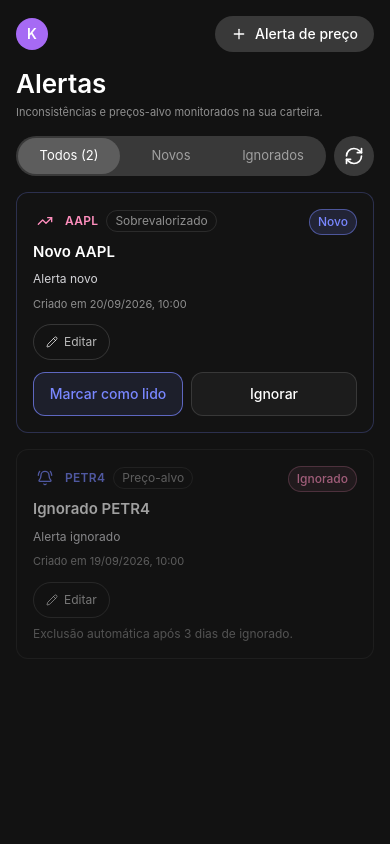
Test case: AlertsPage › filtra alertas novos e ignorados na tela mobile
The width and height of the screenshot is (390, 844).
Step 1. Click the tab "Novos" → [171, 156], box x1=120 y1=138 x2=222 y2=174
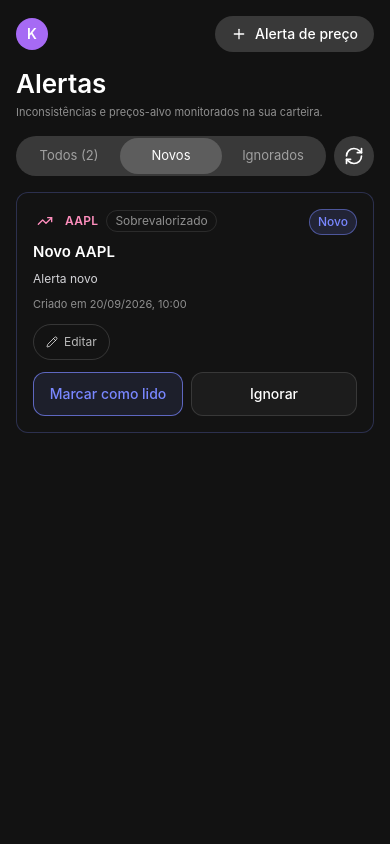
Expected: the element "Novo AAPL" is shown, x1=16 y1=192 x2=374 y2=433
Expected: the heading "Ignorado PETR4" is gone
Step 2. Click the tab "Ignorados" → [273, 156], box x1=222 y1=138 x2=324 y2=174
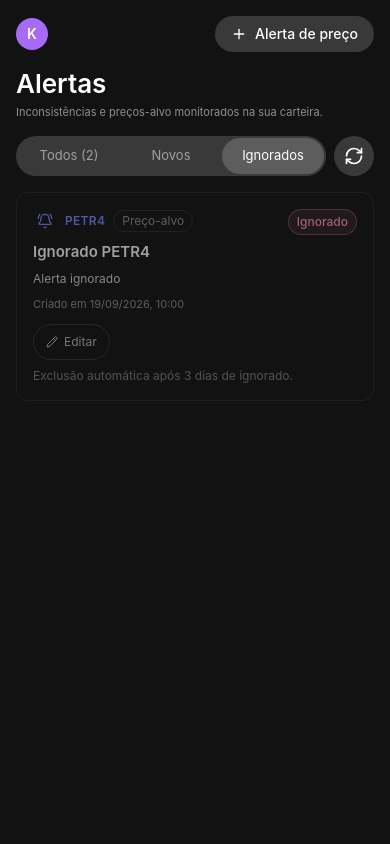
Expected: the heading "Novo AAPL" is gone
Expected: the element "Ignorado PETR4" is shown, x1=16 y1=192 x2=374 y2=401
